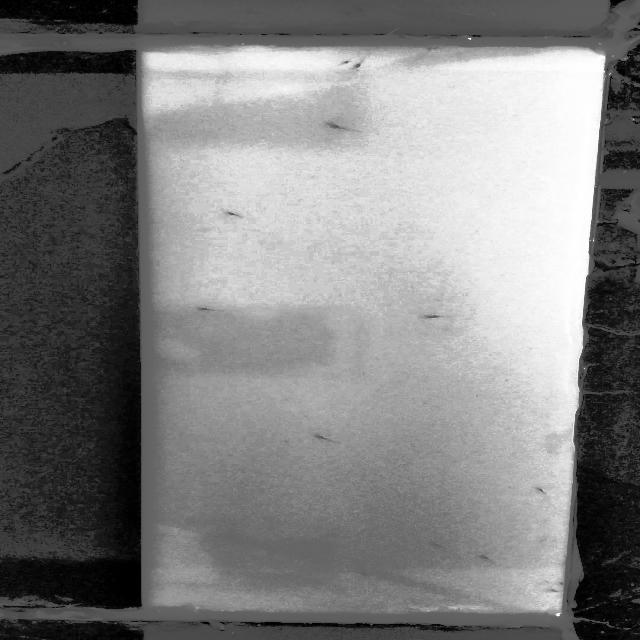shrimp: (322, 120, 356, 135), (311, 431, 339, 444), (197, 304, 233, 314), (222, 209, 252, 219), (353, 566, 376, 579), (527, 483, 548, 497), (475, 552, 498, 563), (427, 311, 450, 322), (350, 56, 368, 70), (333, 58, 358, 68), (426, 540, 449, 549)
